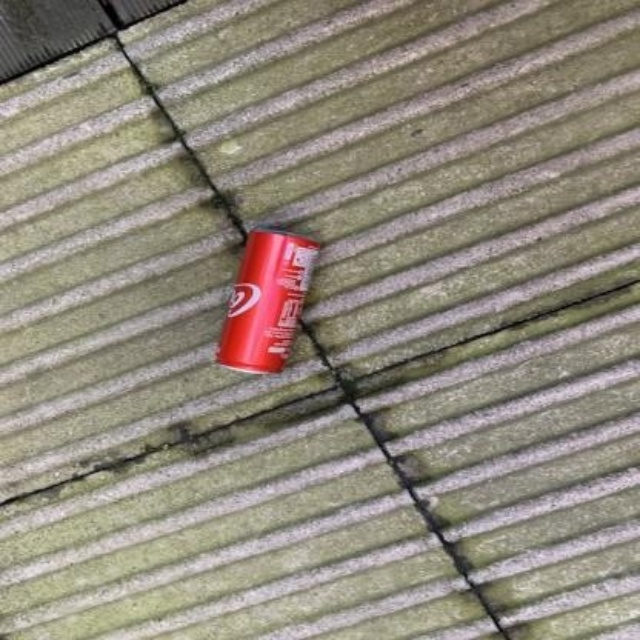trash: (217, 229, 318, 371)
